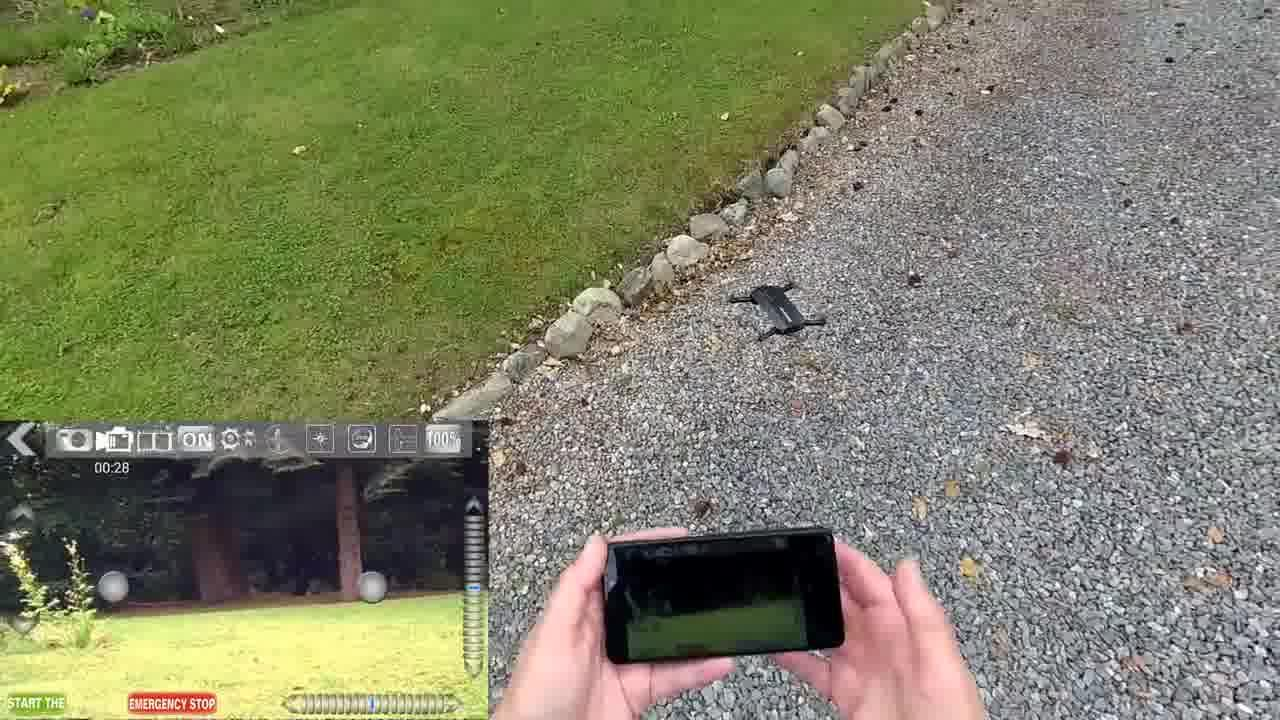drone: (717, 269, 835, 351)
